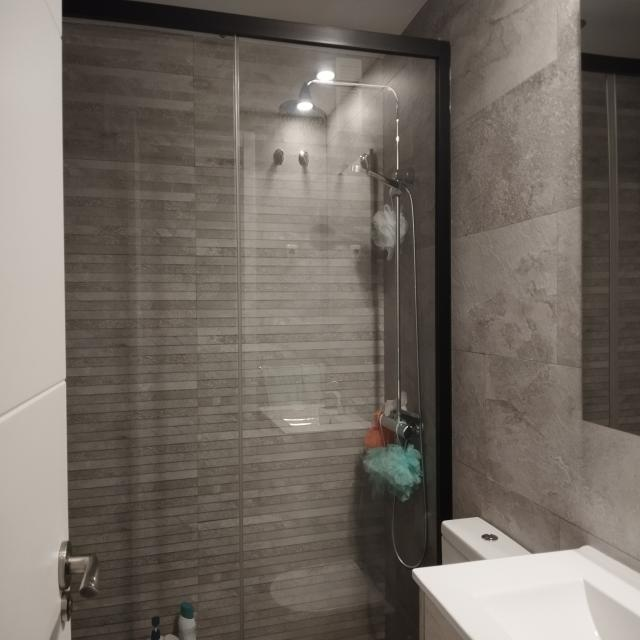cabinet: (419, 588, 466, 640)
shelf: (61, 0, 452, 640)
table: (441, 518, 526, 563)
wardrobe: (412, 545, 640, 640)
